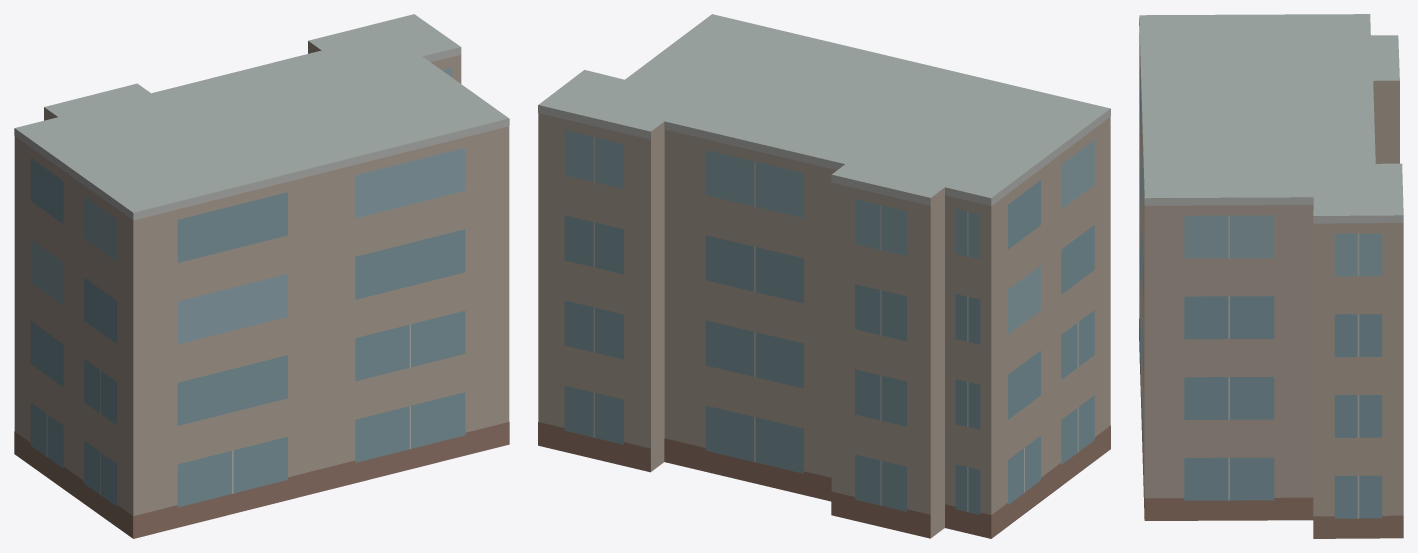
Rendered from survey-upis-32637431.glb.
3 renders of one model, left to right at view 1: azimuth 30°, elevation 25°; view 2: azimuth 150°, elevation 25°; view 3: azimuth 270°, elevation 25°, orthographic. The views are drawn at different scales.
Visible parts, largest first — view 1: survey-upis-32637431.tmp; view 2: survey-upis-32637431.tmp; view 3: survey-upis-32637431.tmp.
Boxes of the visible parts, left/top/right/bottom form: survey-upis-32637431.tmp: left=14, top=14, right=509, bottom=538; survey-upis-32637431.tmp: left=538, top=14, right=1110, bottom=538; survey-upis-32637431.tmp: left=1139, top=14, right=1403, bottom=538.
Size of the model in its own units: 13.97 by 10.4 by 7.73.
